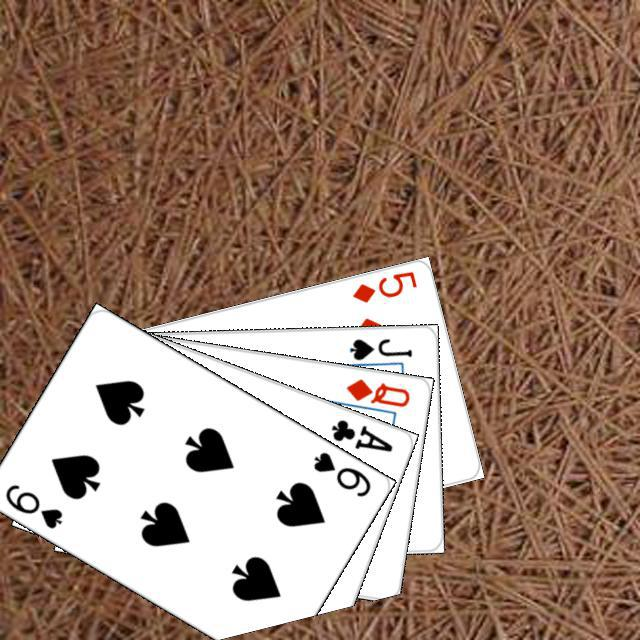5d: (347, 266, 419, 305)
6s: (308, 447, 373, 499), (0, 479, 65, 531)
Ac: (326, 414, 395, 454)
Js: (345, 334, 414, 362)
Qd: (341, 374, 411, 409)
